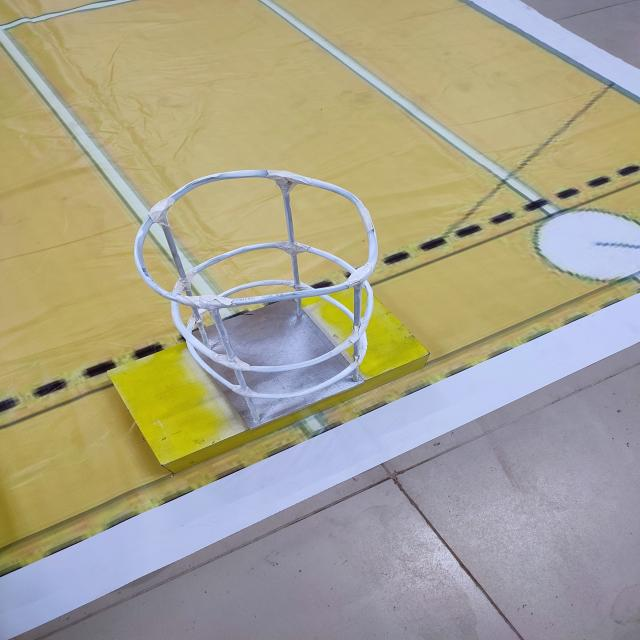silo: (103, 160, 410, 437)
